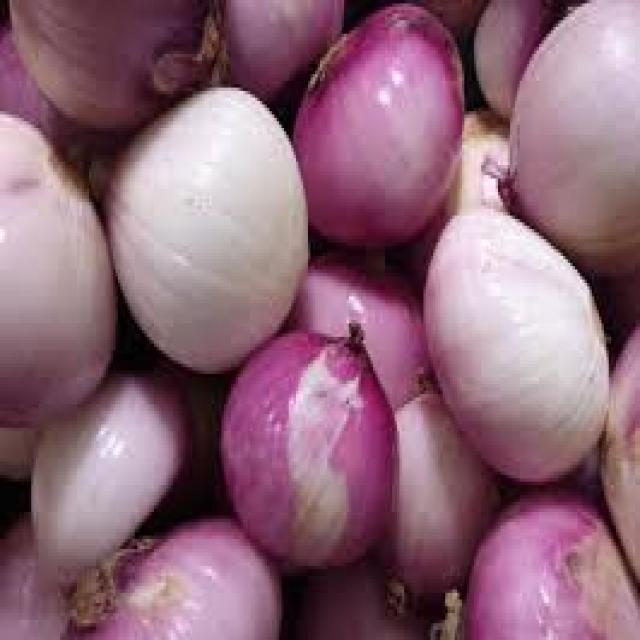organic waste: (89, 74, 306, 371), (421, 202, 599, 478), (219, 310, 399, 569), (478, 0, 638, 273), (284, 0, 462, 236), (0, 108, 113, 472), (27, 354, 190, 586), (378, 367, 510, 613), (60, 508, 279, 636), (5, 0, 212, 125), (460, 492, 638, 636), (296, 249, 426, 404), (298, 532, 424, 637), (0, 27, 94, 158), (219, 0, 341, 94), (0, 501, 79, 633), (599, 317, 638, 576), (469, 0, 556, 111), (445, 104, 522, 209)
